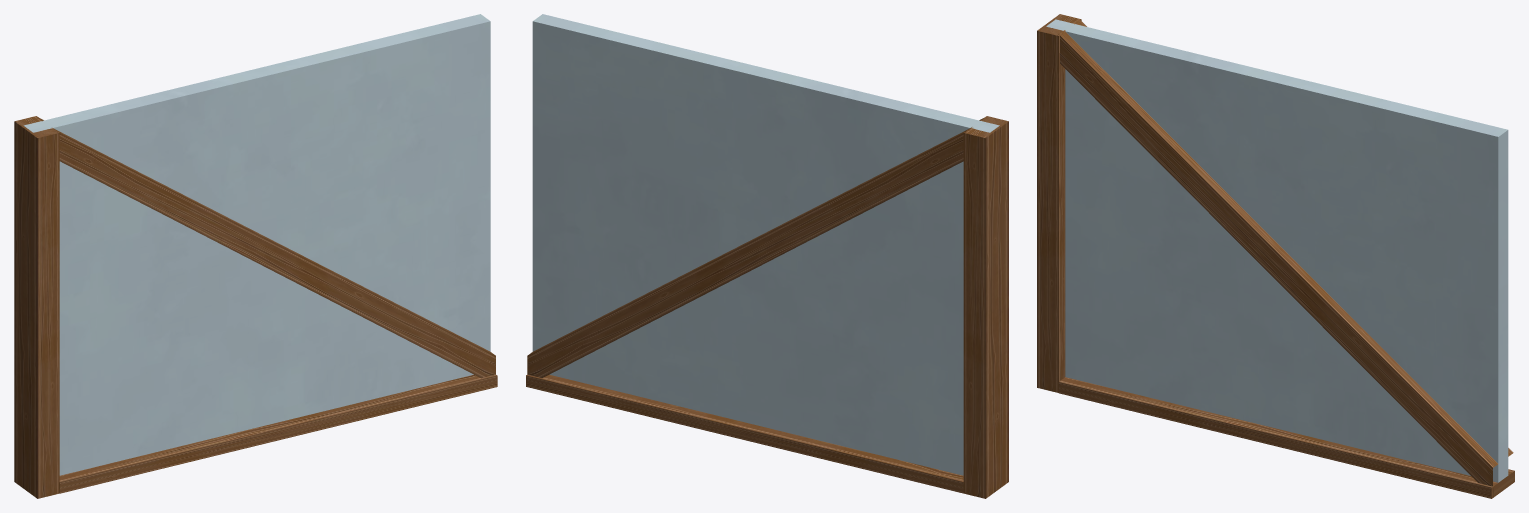
File: SM_Large_Wall_02_wblue.glb
The picture shows the model from 3 angles, left to right: view 1: azimuth 30°, elevation 25°; view 2: azimuth 150°, elevation 25°; view 3: azimuth 330°, elevation 25°; orthographic projection.
Parts seen in each view (by area): view 1: SM_Large_Wall_02; view 2: SM_Large_Wall_02; view 3: SM_Large_Wall_02.
Part boxes in pixels (<box>): SM_Large_Wall_02: <box>14,14,497,498</box>; SM_Large_Wall_02: <box>526,14,1008,498</box>; SM_Large_Wall_02: <box>1037,14,1514,498</box>.
Size of the model in its own units: 4 by 3.01 by 0.3524.
Materials: 2 (2 with a texture image).
